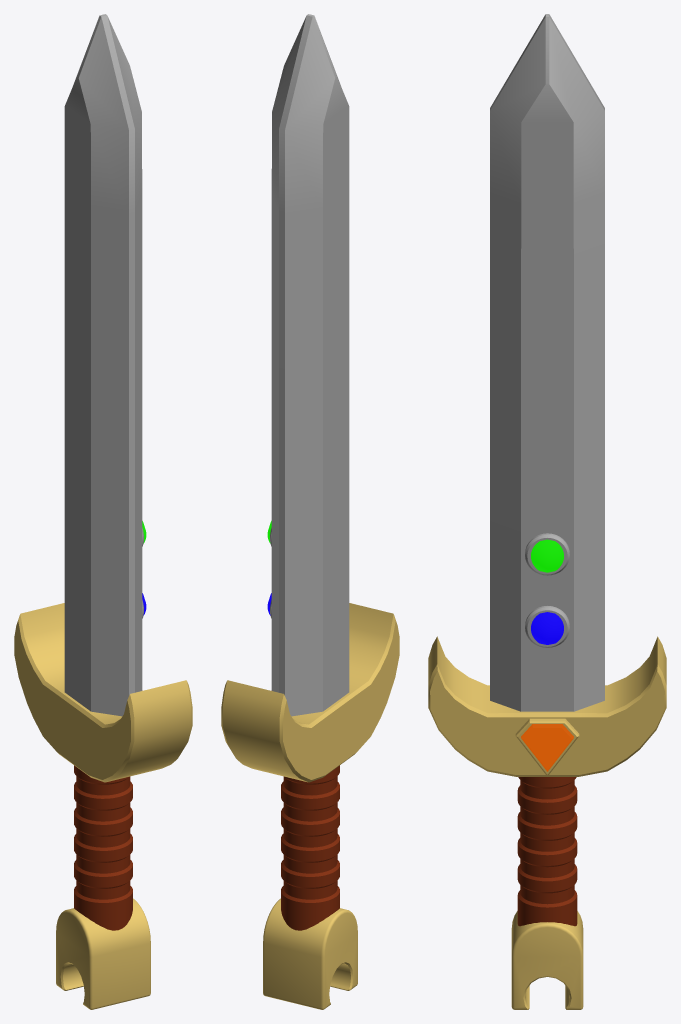
File: weapons.fbx
The picture shows the model from 3 angles, left to right: view 1: azimuth 30°, elevation 25°; view 2: azimuth 150°, elevation 25°; view 3: azimuth 270°, elevation 25°; orthographic projection.
Visible parts, largest first — view 1: blade, gold, handle; view 2: blade, gold, handle; view 3: blade, gold, handle, gems.
Part boxes in pixels (x1=…): blade: x1=64, y1=14, x2=143, y2=716; gold: x1=14, y1=603, x2=192, y2=1009; handle: x1=74, y1=765, x2=132, y2=930; blade: x1=270, y1=14, x2=349, y2=716; gold: x1=221, y1=603, x2=399, y2=1009; handle: x1=281, y1=765, x2=339, y2=930; blade: x1=490, y1=14, x2=604, y2=711; gold: x1=428, y1=636, x2=666, y2=1009; handle: x1=517, y1=777, x2=577, y2=926; gems: x1=521, y1=539, x2=573, y2=771.
Bounding box in the file's own units: 0.5298 × 6.75 × 1.49.
